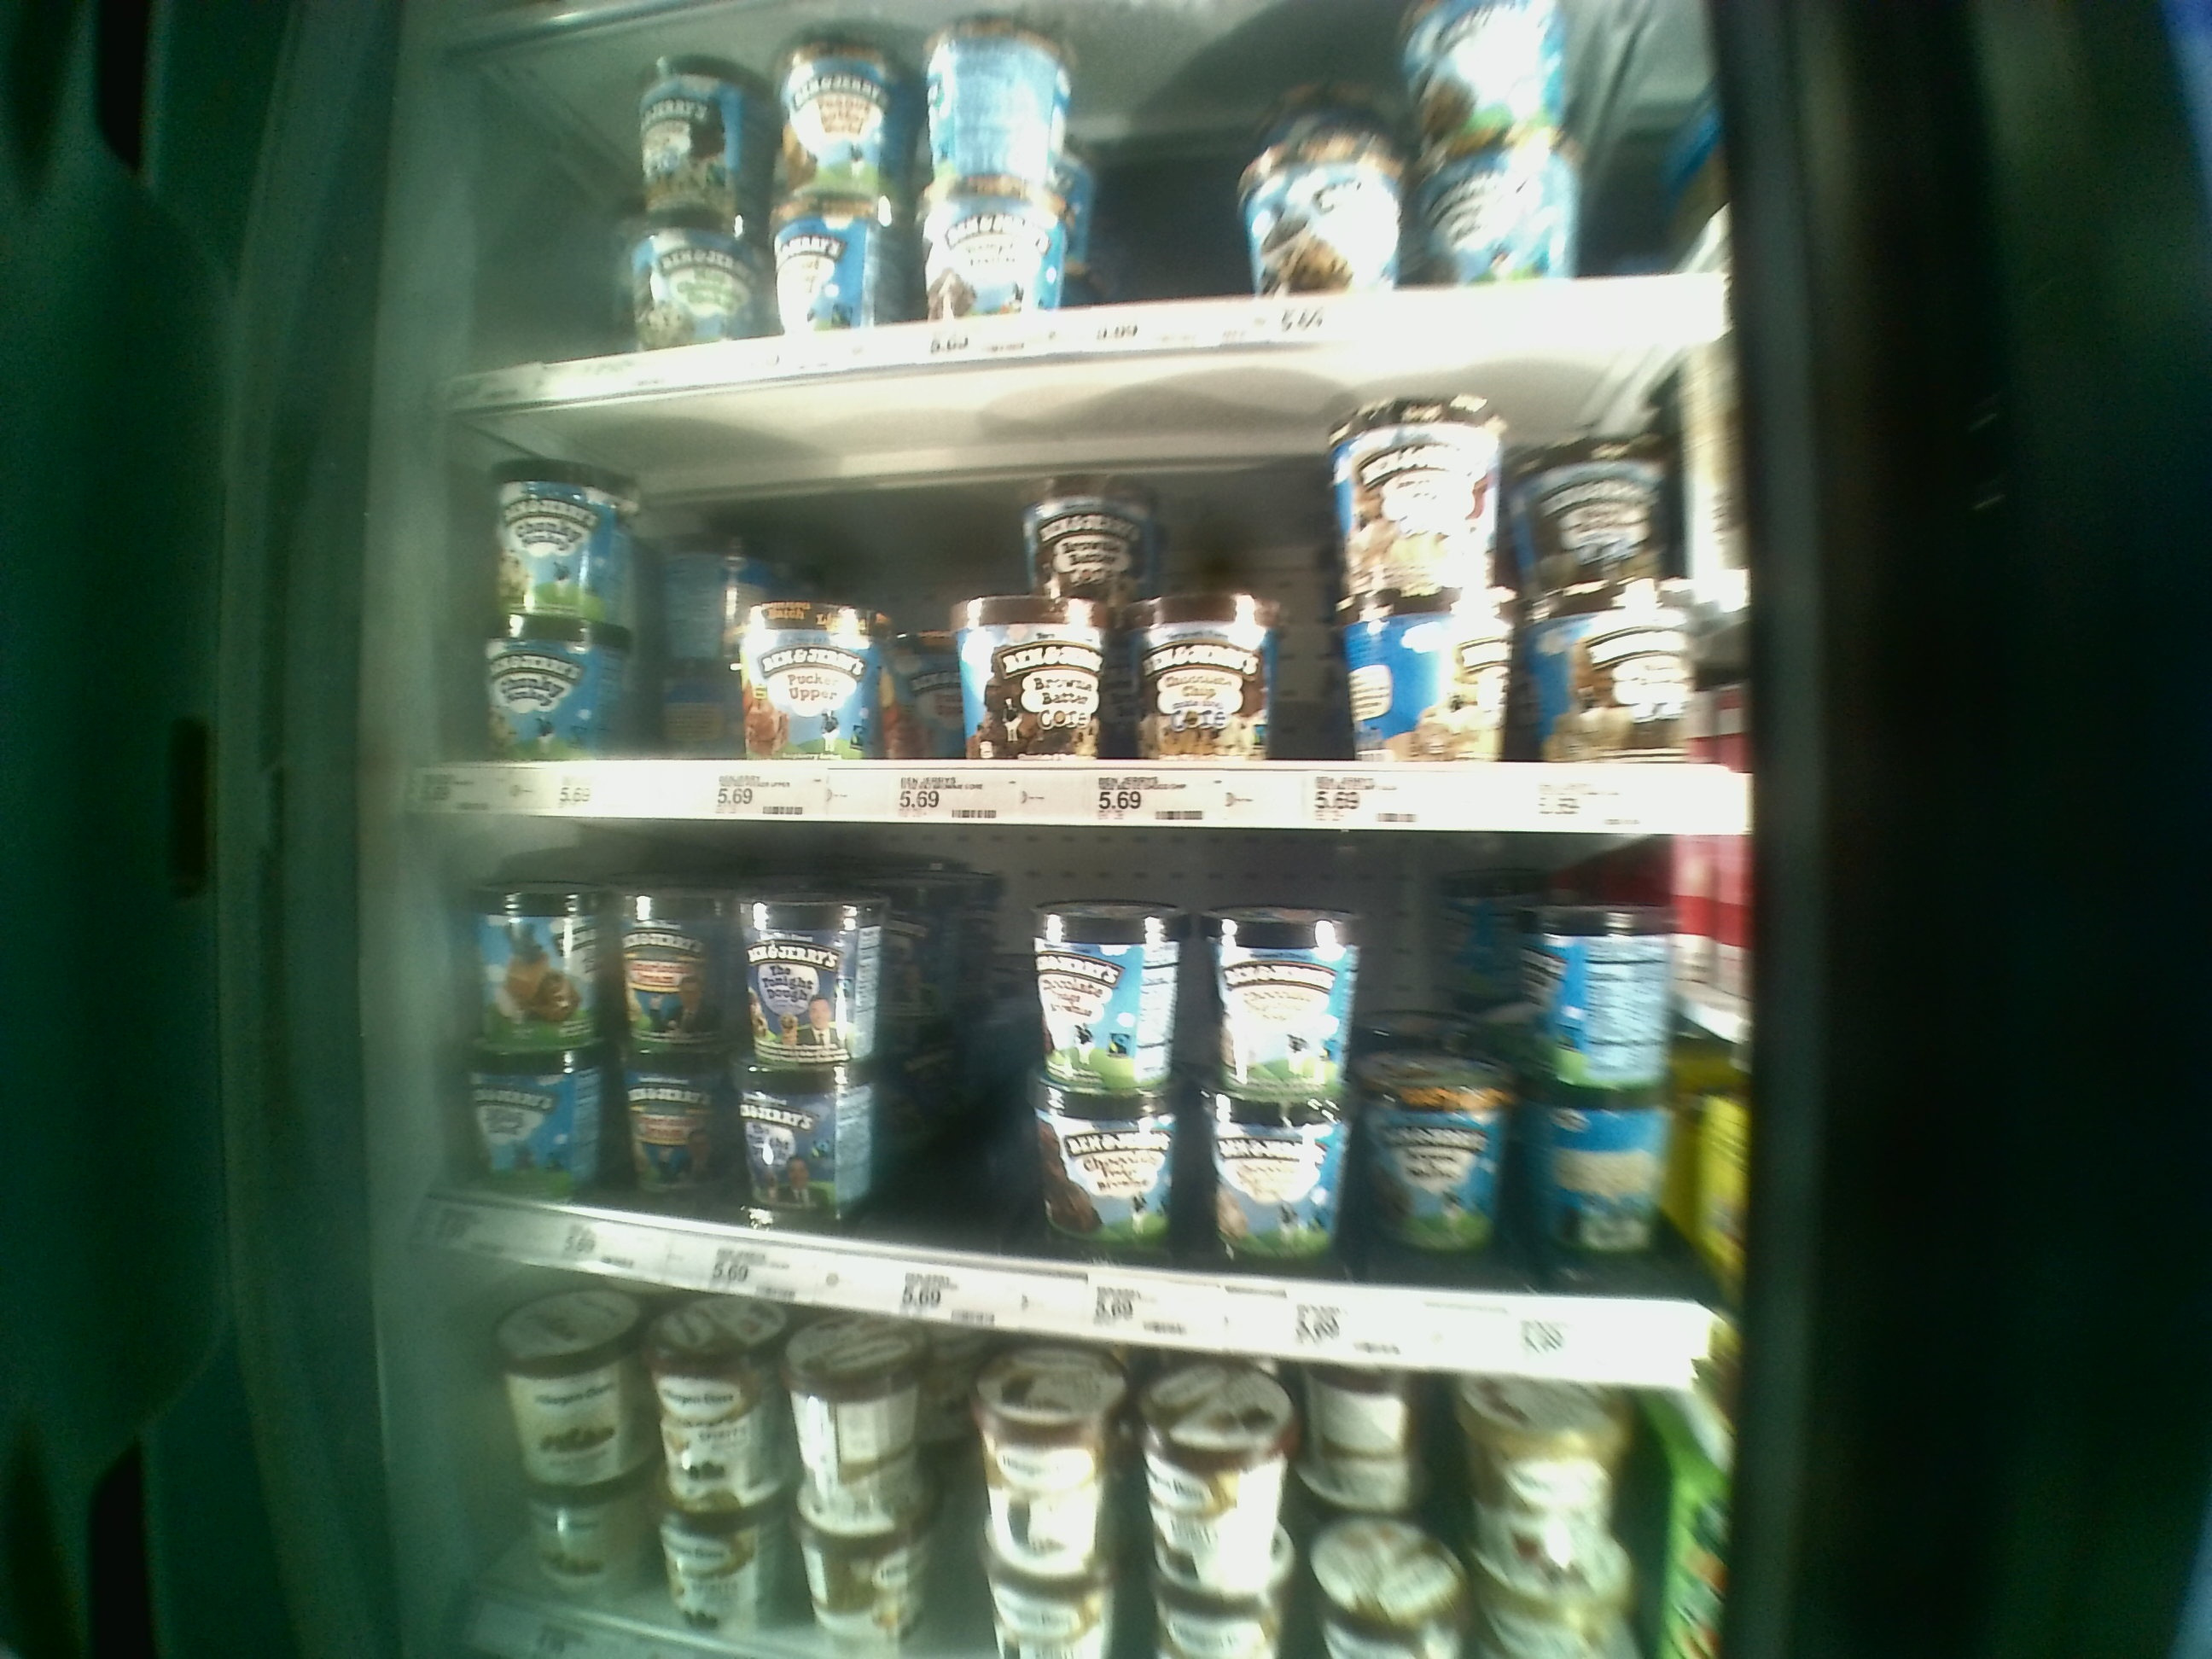shelf: (460, 819, 1730, 1373), (462, 336, 1742, 824)
